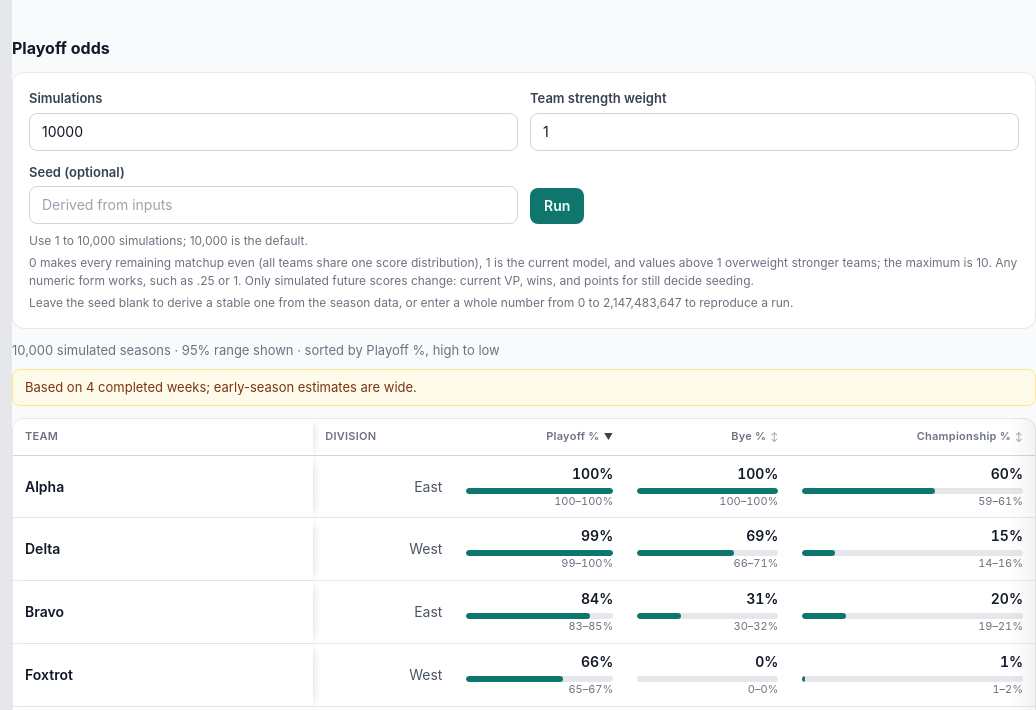
it: PlayoffOddsSection controls (AC-PO-19) › rejects an iteration count above the member cap
This screenshot has width=1036, height=710.
Replace the text in the field labelled "Simulations" with "10001": coordinates (274, 132) x1=29 y1=112 x2=518 y2=150
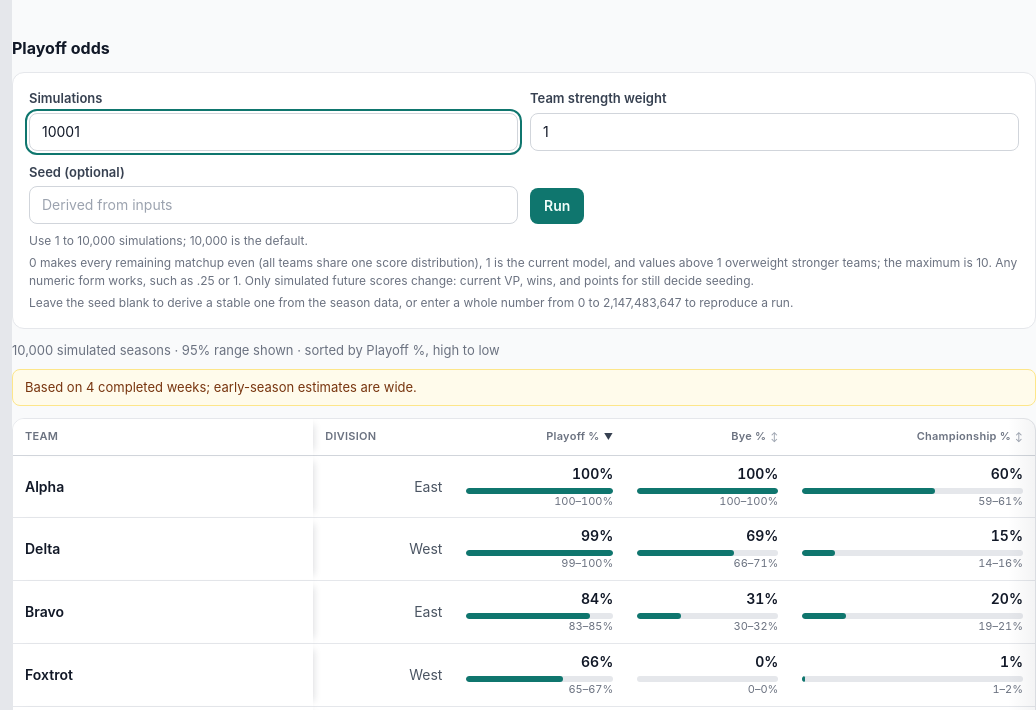
Click the button "Run": coordinates (557, 206) x1=530 y1=188 x2=584 y2=224
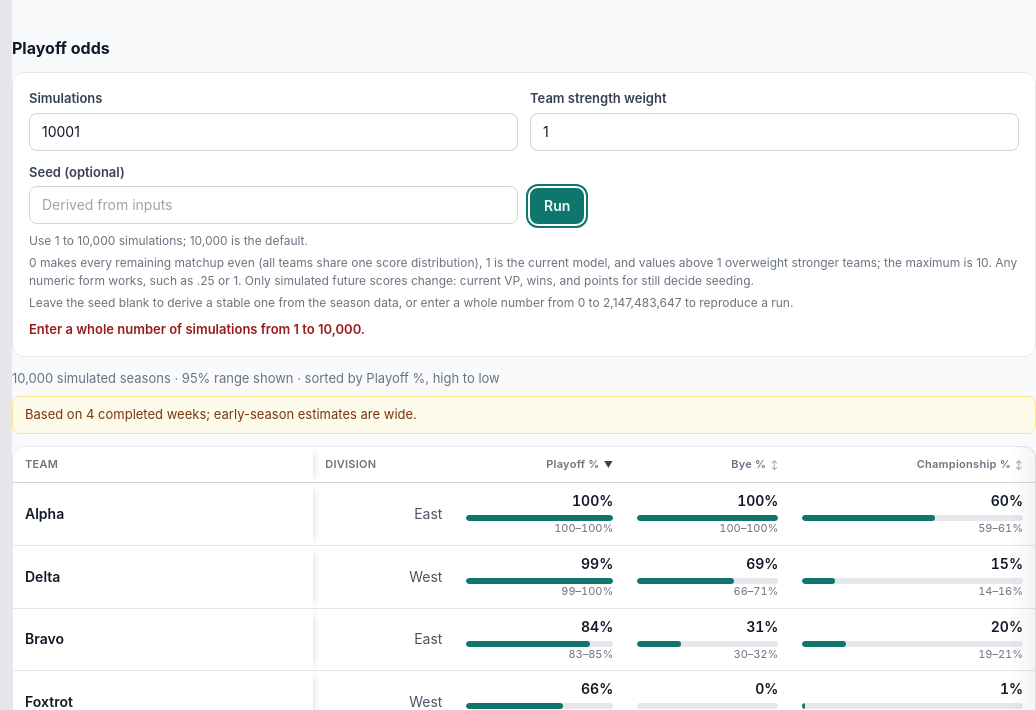
Now the message shows "Enter a whole number of simulations from 1 to 10,000", box x1=29 y1=321 x2=365 y2=337
